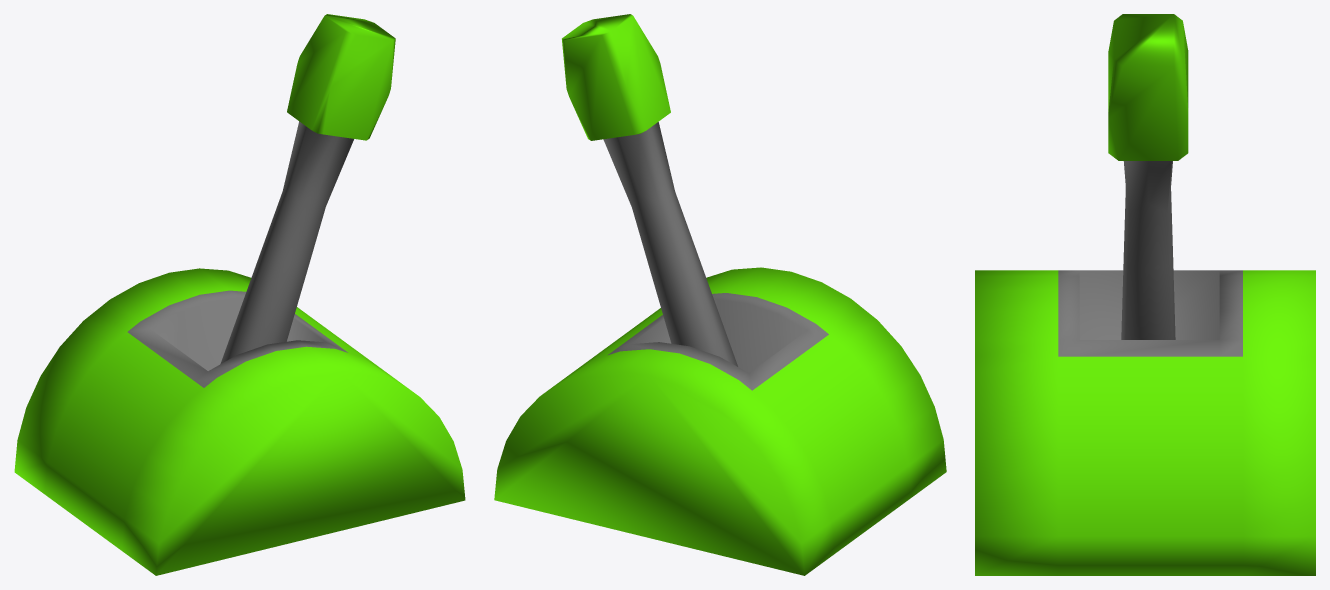
The model's file is greenswitch.fbx.
3 views of the same model, side by side, from view 1: azimuth 30°, elevation 25°; view 2: azimuth 150°, elevation 25°; view 3: azimuth 270°, elevation 25° (orthographic). The views are drawn at different scales.
Parts seen in each view (by area): view 1: Cylinder, Cube; view 2: Cylinder, Cube; view 3: Cylinder, Cube.
Boxes of the visible parts, left/top/right/bottom form: Cylinder: left=14, top=268, right=465, bottom=575; Cube: left=220, top=14, right=395, bottom=363; Cylinder: left=494, top=267, right=946, bottom=575; Cube: left=562, top=14, right=737, bottom=366; Cylinder: left=975, top=270, right=1315, bottom=575; Cube: left=1108, top=14, right=1188, bottom=339.
Size of the model in its own units: 200 by 271 by 158.
